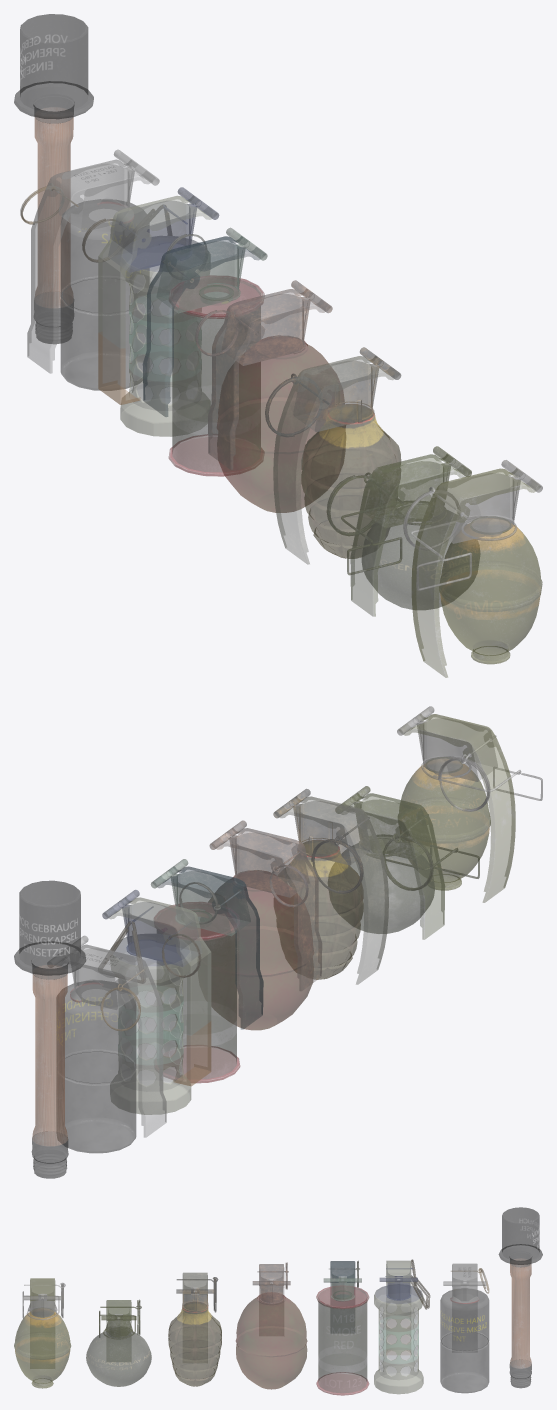
The model's file is Grenades_pivotFixed.fbx.
The picture shows the model from 3 angles, top to bottom: view 1: azimuth 30°, elevation 25°; view 2: azimuth 150°, elevation 25°; view 3: azimuth 270°, elevation 25°; orthographic projection. The views are drawn at different scales.
Visible parts, largest first — view 1: Grenade_Illuminating, Grenade_Offensive, Grenade_M18_Smoke, Grenade_NonLethal, Fragmentation_V1, Grenade_Fragmentation_V3, Grenade_Fragmentation_V2, Grenade_Stick; view 2: Grenade_Offensive, Grenade_NonLethal, Grenade_Illuminating, Grenade_M18_Smoke, Fragmentation_V1, Grenade_Fragmentation_V3, Grenade_Fragmentation_V2, Grenade_Stick; view 3: Grenade_Illuminating, Grenade_M18_Smoke, Grenade_Offensive, Grenade_NonLethal, Grenade_Fragmentation_V3, Fragmentation_V1, Grenade_Stick, Grenade_Fragmentation_V2.
Part boxes in pixels (left/top/right/bottom): Grenade_Illuminating: left=195, top=280, right=345, bottom=512; Grenade_Offensive: left=20, top=149, right=159, bottom=390; Grenade_M18_Smoke: left=142, top=227, right=267, bottom=476; Grenade_NonLethal: left=82, top=187, right=219, bottom=436; Fragmentation_V1: left=403, top=460, right=542, bottom=677; Grenade_Fragmentation_V3: left=265, top=347, right=401, bottom=564; Grenade_Fragmentation_V2: left=326, top=446, right=479, bottom=616; Grenade_Stick: left=14, top=14, right=93, bottom=343; Grenade_Offensive: left=47, top=935, right=166, bottom=1153; Grenade_NonLethal: left=98, top=890, right=211, bottom=1114; Grenade_Illuminating: left=201, top=820, right=322, bottom=1030; Grenade_M18_Smoke: left=151, top=859, right=263, bottom=1083; Fragmentation_V1: left=397, top=706, right=542, bottom=902; Grenade_Fragmentation_V3: left=273, top=789, right=388, bottom=984; Grenade_Fragmentation_V2: left=328, top=786, right=479, bottom=939; Grenade_Stick: left=14, top=880, right=86, bottom=1178; Grenade_Illuminating: left=236, top=1262, right=307, bottom=1389; Grenade_M18_Smoke: left=316, top=1260, right=369, bottom=1395; Grenade_Offensive: left=440, top=1263, right=489, bottom=1393; Grenade_NonLethal: left=374, top=1259, right=430, bottom=1394; Grenade_Fragmentation_V3: left=168, top=1272, right=221, bottom=1386; Fragmentation_V1: left=14, top=1278, right=70, bottom=1388; Grenade_Stick: left=498, top=1207, right=542, bottom=1388; Grenade_Fragmentation_V2: left=86, top=1299, right=151, bottom=1386.
Size of the model in its own units: 18.47 by 36.78 by 104.
